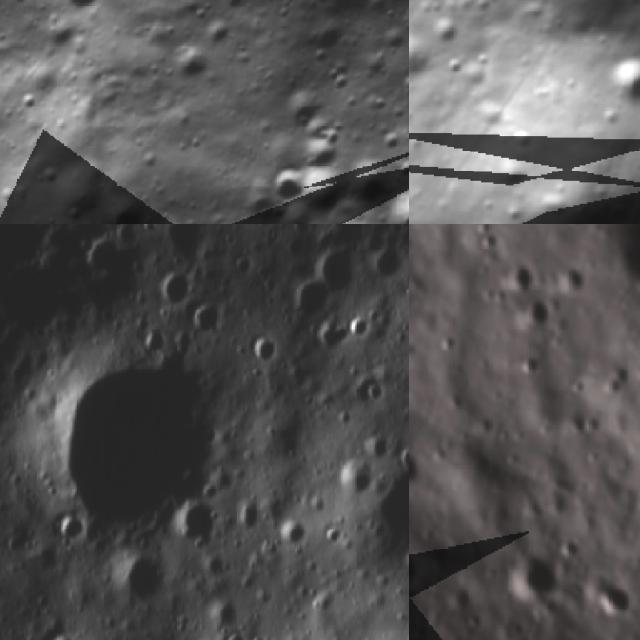crater: (44, 355, 232, 536), (0, 157, 226, 224), (237, 176, 409, 224), (327, 144, 409, 224), (352, 450, 409, 562), (253, 150, 324, 222), (285, 119, 354, 188), (591, 41, 640, 118), (109, 550, 172, 606), (507, 540, 559, 606), (287, 272, 338, 324), (175, 496, 227, 546), (46, 0, 124, 33), (82, 228, 134, 274), (0, 443, 19, 566), (314, 240, 359, 288), (595, 568, 634, 622), (368, 175, 409, 224), (160, 270, 197, 316), (370, 240, 406, 285), (189, 295, 229, 333), (524, 283, 556, 330), (498, 258, 538, 295), (279, 508, 314, 548), (161, 224, 202, 257), (52, 513, 90, 548), (334, 457, 370, 493), (209, 595, 244, 630), (138, 328, 175, 354), (238, 496, 266, 530), (409, 546, 424, 595), (409, 450, 428, 488), (48, 631, 81, 640)
